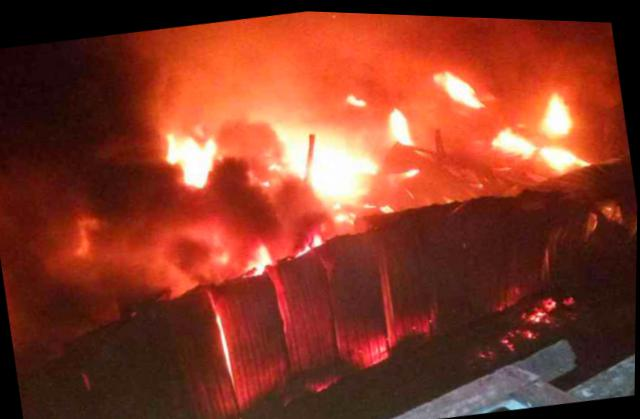fire: (303, 121, 378, 207), (162, 124, 228, 193), (430, 59, 486, 109), (534, 133, 586, 171), (277, 121, 311, 175), (538, 90, 577, 137), (386, 99, 415, 151), (497, 120, 532, 159), (252, 248, 277, 276), (346, 85, 367, 111)
smoke: (114, 3, 614, 121), (4, 204, 208, 315), (119, 76, 339, 143), (0, 148, 110, 237), (479, 41, 620, 106), (383, 133, 501, 205), (198, 174, 315, 246), (421, 94, 538, 139), (581, 86, 631, 162), (404, 70, 432, 104)
